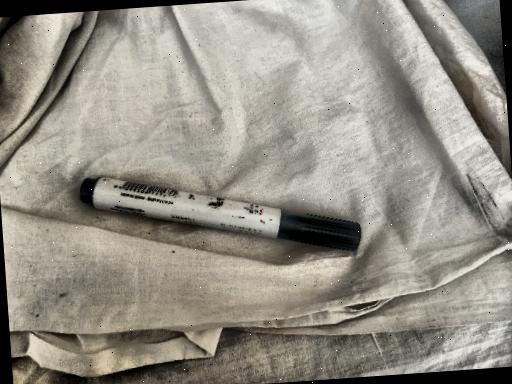marcador negro: (80, 177, 361, 251)
